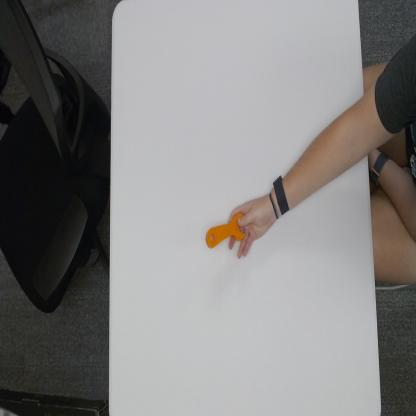Arm: (291, 82, 370, 218)
Hand: (230, 196, 274, 259)
Screwdriver: (203, 205, 243, 252)
